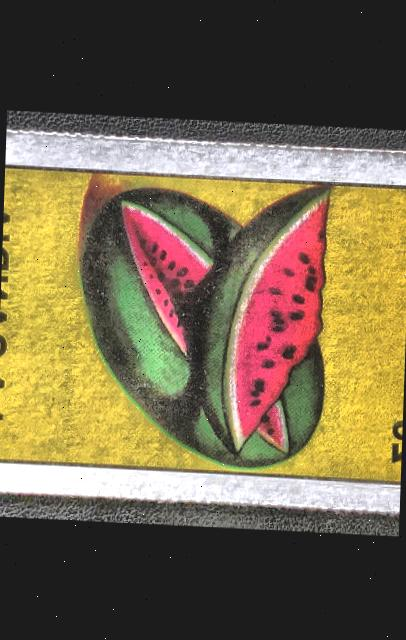La Sandia: (0, 142, 406, 504)
